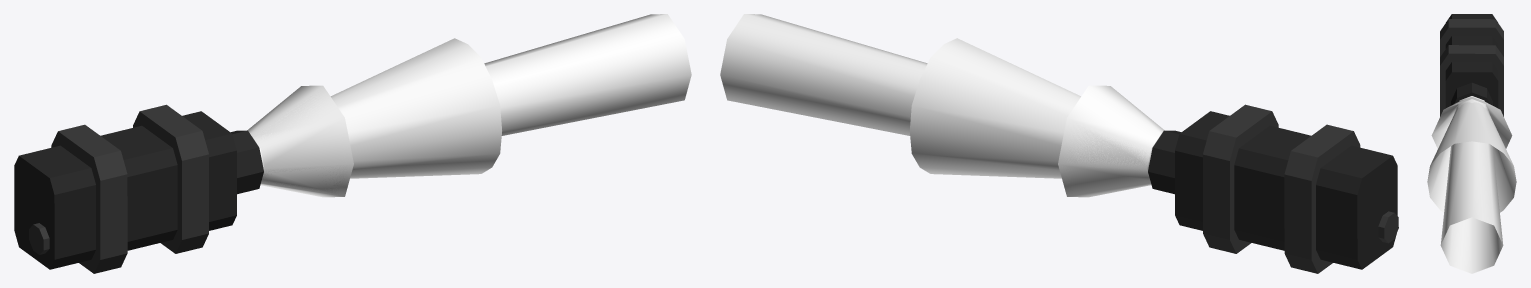
File: Accessories_Flashlight_A.FBX
3 renders of one model, left to right at view 1: azimuth 30°, elevation 25°; view 2: azimuth 150°, elevation 25°; view 3: azimuth 270°, elevation 25°, orthographic. The views are drawn at different scales.
Parts seen in each view (by area): view 1: Flashlight_Light, Accessories_Flashlight_A; view 2: Flashlight_Light, Accessories_Flashlight_A; view 3: Flashlight_Light, Accessories_Flashlight_A.
Part boxes in pixels (x1,y1,x2,y2): Flashlight_Light: (247, 14, 691, 197); Accessories_Flashlight_A: (14, 104, 263, 273); Flashlight_Light: (720, 14, 1164, 197); Accessories_Flashlight_A: (1148, 104, 1398, 273); Flashlight_Light: (1427, 96, 1516, 273); Accessories_Flashlight_A: (1440, 14, 1503, 116).
Size of the model in its own units: 146 by 26.93 by 26.93.
